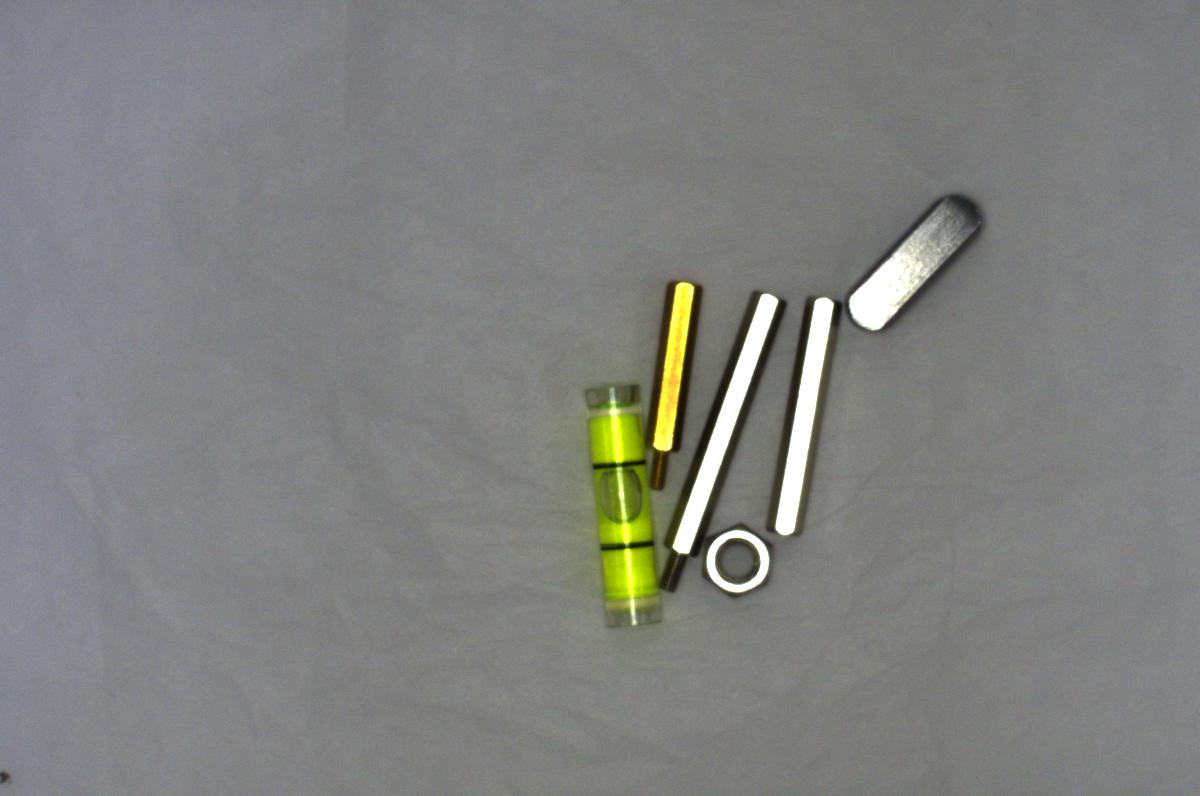Double hexagonal column: (761, 290, 839, 546)
Hexagon nut: (694, 508, 780, 600)
Hexagon pillar: (638, 263, 696, 492)
Hexagonal steel column: (642, 278, 783, 591)
Horizontal bubble: (576, 368, 680, 633)
Keybar: (839, 183, 998, 336)
